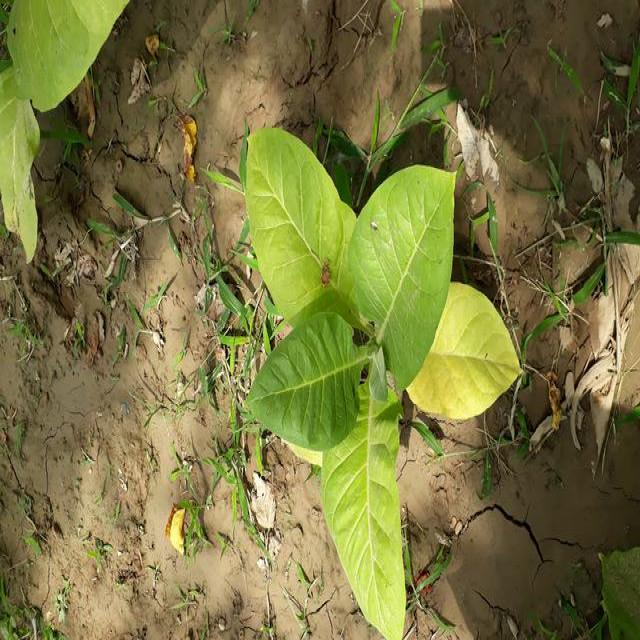crop: (243, 126, 520, 640)
